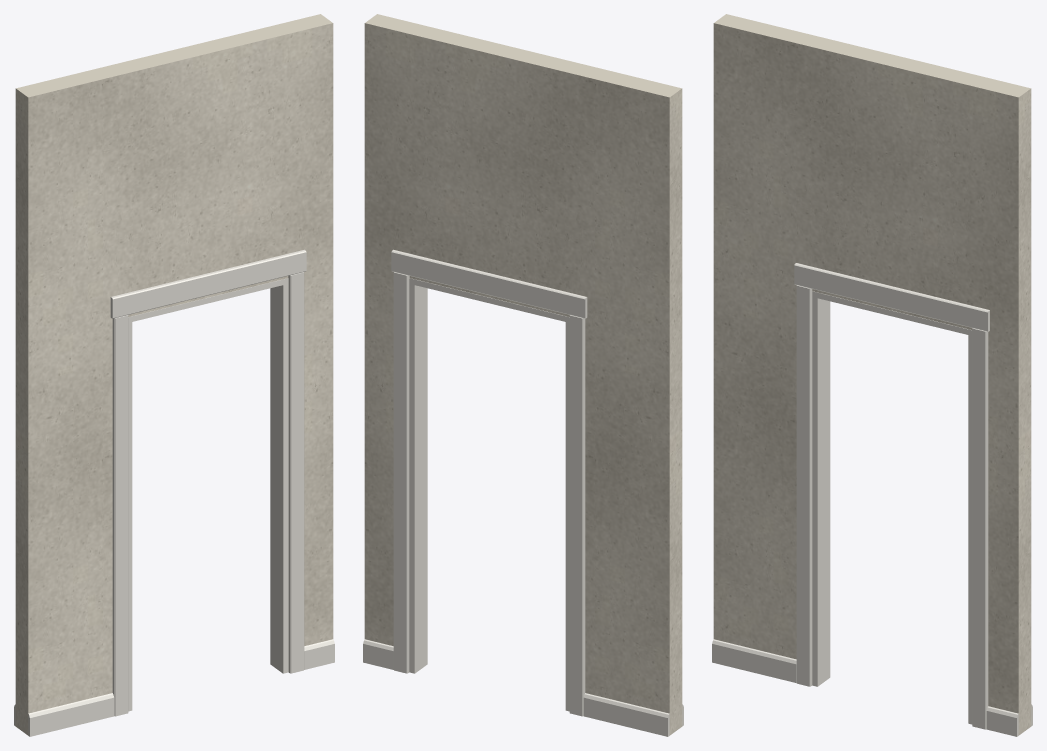
The model's file is interior_wall_end_doorway.glb.
3 renders of one model, left to right at view 1: azimuth 30°, elevation 25°; view 2: azimuth 150°, elevation 25°; view 3: azimuth 330°, elevation 25°, orthographic.
Visible parts, largest first — view 1: interior_wall_end_doorway_plaster, interior_wall_end_doorway_frame, interior_wall_end_doorway_trim; view 2: interior_wall_end_doorway_plaster, interior_wall_end_doorway_frame, interior_wall_end_doorway_trim; view 3: interior_wall_end_doorway_plaster, interior_wall_end_doorway_frame, interior_wall_end_doorway_trim.
Part boxes in pixels (x1,y1,x2,y2): interior_wall_end_doorway_plaster: [15, 14, 333, 735]; interior_wall_end_doorway_frame: [110, 249, 306, 716]; interior_wall_end_doorway_trim: [14, 639, 334, 736]; interior_wall_end_doorway_plaster: [364, 14, 682, 735]; interior_wall_end_doorway_frame: [391, 249, 587, 716]; interior_wall_end_doorway_trim: [363, 639, 683, 736]; interior_wall_end_doorway_plaster: [713, 14, 1031, 735]; interior_wall_end_doorway_frame: [794, 263, 989, 729]; interior_wall_end_doorway_trim: [712, 639, 1032, 736].
Size of the model in its own units: 1.7 by 3.4 by 0.16.
3 materials, 1 textured.
